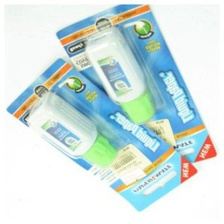book: (4, 55, 199, 214), (52, 0, 219, 179)
correction_fluid: (25, 89, 120, 171), (82, 24, 157, 126)
